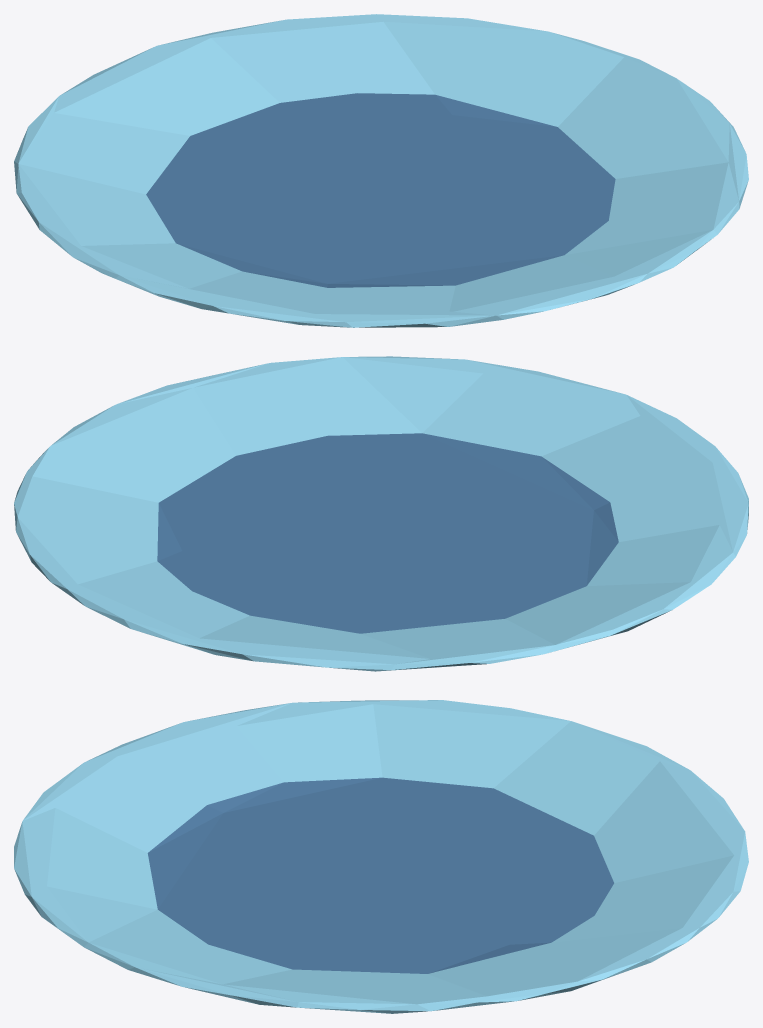
The model's file is PlateBig01Blue.fbx.
3 renders of one model, top to bottom at view 1: azimuth 30°, elevation 25°; view 2: azimuth 150°, elevation 25°; view 3: azimuth 270°, elevation 25°, orthographic.
Visible parts, largest first — view 1: PlateBig01LowPolyBlue; view 2: PlateBig01LowPolyBlue; view 3: PlateBig01LowPolyBlue.
Part boxes in pixels (<box>): PlateBig01LowPolyBlue: <box>14,14,748,327</box>; PlateBig01LowPolyBlue: <box>14,356,748,671</box>; PlateBig01LowPolyBlue: <box>14,700,748,1013</box>.
Bounding box in the file's own units: 28.9 × 1.79 × 28.88.
